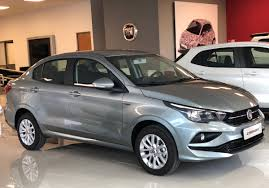car: (5, 50, 265, 175), (174, 42, 269, 114)
